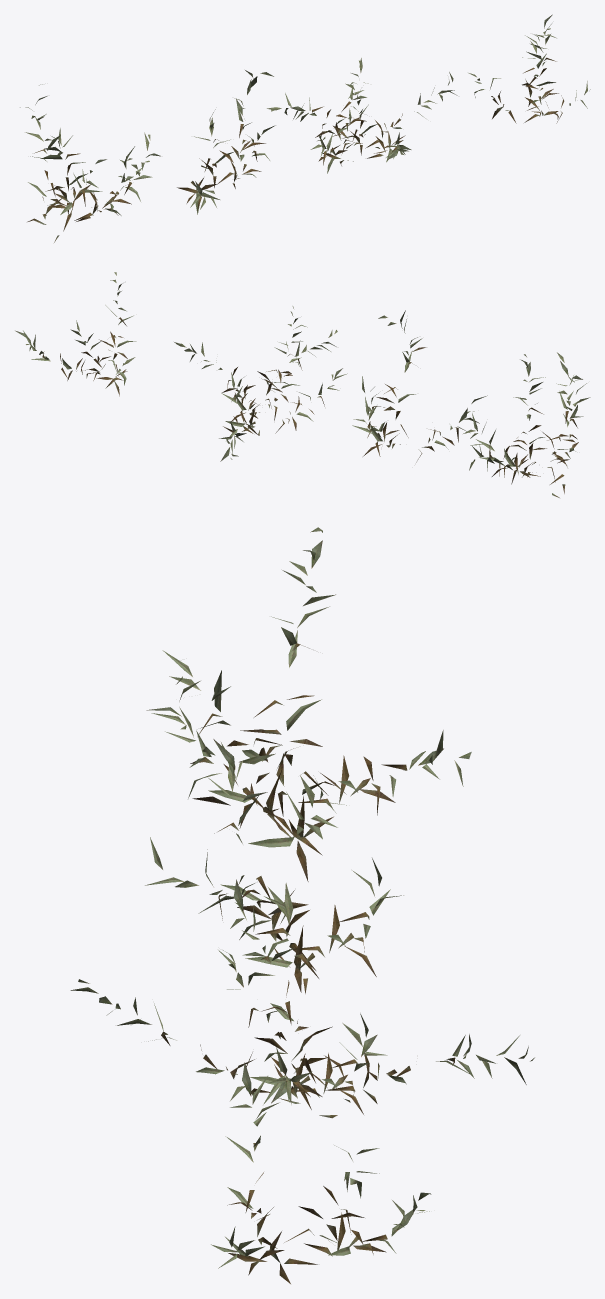
Rendered from shrub_02.glb.
3 views of the same model, one above another, from view 1: azimuth 30°, elevation 25°; view 2: azimuth 150°, elevation 25°; view 3: azimuth 270°, elevation 25° (orthographic). The views are drawn at different scales.
Parts seen in each view (by area): view 1: shrub_02_a, shrub_02_c, shrub_02_b, shrub_02_d; view 2: shrub_02_c, shrub_02_a, shrub_02_b, shrub_02_d; view 3: shrub_02_a, shrub_02_c, shrub_02_b, shrub_02_d.
Boxes of the visible parts, x1,y1,x2,y2 form: shrub_02_a: [20, 84, 160, 242]; shrub_02_c: [267, 58, 457, 173]; shrub_02_b: [177, 70, 275, 214]; shrub_02_d: [468, 14, 590, 123]; shrub_02_c: [174, 306, 347, 461]; shrub_02_a: [463, 352, 590, 497]; shrub_02_b: [352, 310, 487, 462]; shrub_02_d: [15, 272, 136, 396]; shrub_02_a: [146, 527, 471, 881]; shrub_02_c: [70, 875, 534, 1118]; shrub_02_b: [145, 739, 403, 993]; shrub_02_d: [211, 1062, 431, 1283].
Bounding box in the file's own units: 6.05 × 1.62 × 2.25.
1 material, 1 textured.
